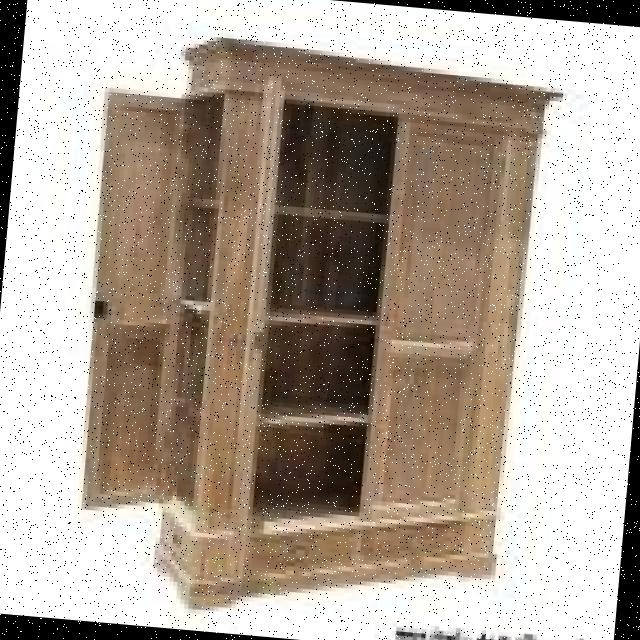Closet: (54, 20, 573, 640)
